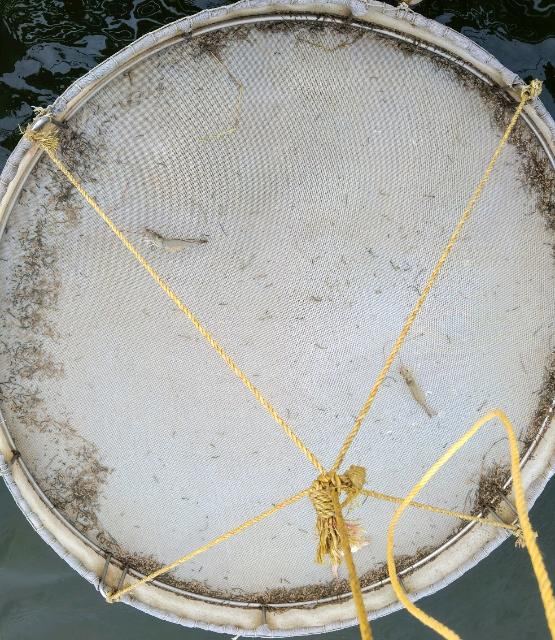shrimp: (399, 365, 437, 418), (141, 227, 208, 251)
